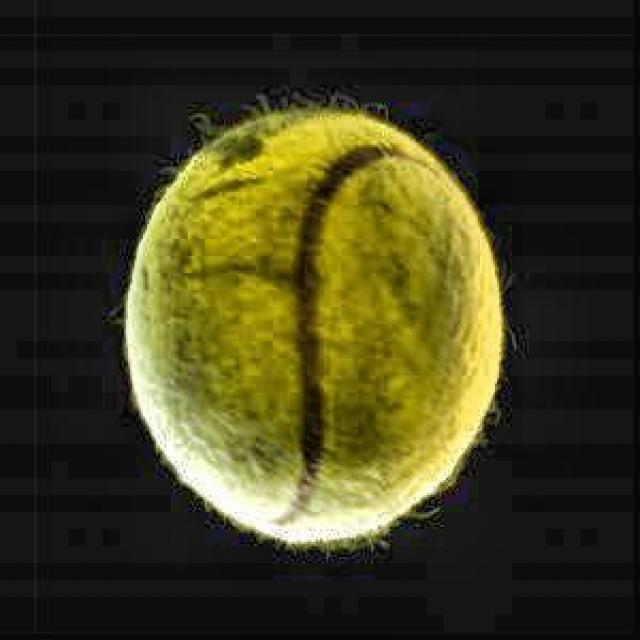tennis-ball: (111, 92, 517, 562)
